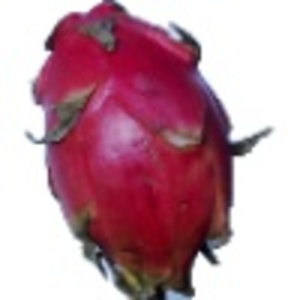pitaia: (27, 1, 271, 300)
